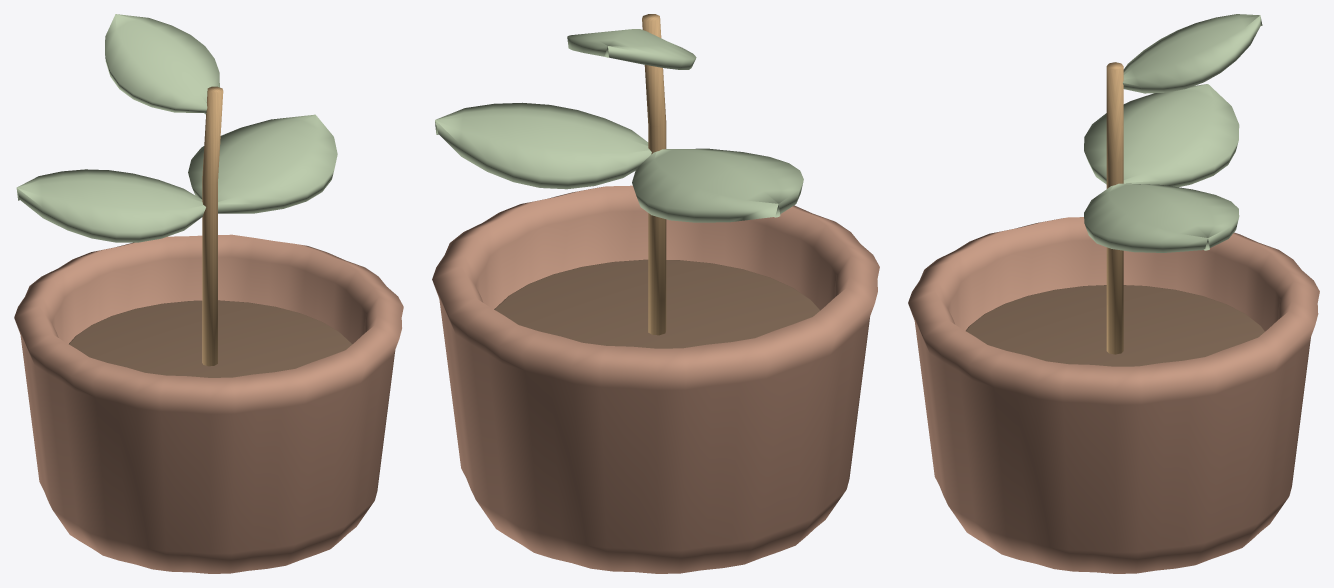
The model's file is gift-06.21fe1a33d052-Dt6cZzPb.glb.
3 renders of one model, left to right at view 1: azimuth 30°, elevation 25°; view 2: azimuth 150°, elevation 25°; view 3: azimuth 270°, elevation 25°, orthographic. The views are drawn at different scales.
Visible parts, largest first — view 1: PART_GIFT_06_ROOT_MAT_pinched_terracotta, PART_GIFT_06_ROOT_MAT_sage_paper, Matte_plant_base, Folded_tender_leaf, Fine_wood_stem; view 2: PART_GIFT_06_ROOT_MAT_pinched_terracotta, PART_GIFT_06_ROOT_MAT_sage_paper, Matte_plant_base, Fine_wood_stem, Folded_tender_leaf; view 3: PART_GIFT_06_ROOT_MAT_pinched_terracotta, PART_GIFT_06_ROOT_MAT_sage_paper, Matte_plant_base, Folded_tender_leaf, Fine_wood_stem.
Part boxes in pixels (<box>): PART_GIFT_06_ROOT_MAT_pinched_terracotta: <box>14,234,403,573</box>; PART_GIFT_06_ROOT_MAT_sage_paper: <box>16,114,337,242</box>; Matte_plant_base: <box>69,300,351,377</box>; Folded_tender_leaf: <box>105,14,219,114</box>; Fine_wood_stem: <box>202,86,223,366</box>; PART_GIFT_06_ROOT_MAT_pinched_terracotta: <box>432,185,879,573</box>; PART_GIFT_06_ROOT_MAT_sage_paper: <box>435,102,803,222</box>; Matte_plant_base: <box>494,259,820,348</box>; Fine_wood_stem: <box>642,14,666,335</box>; Folded_tender_leaf: <box>567,29,696,69</box>; PART_GIFT_06_ROOT_MAT_pinched_terracotta: <box>908,217,1319,573</box>; PART_GIFT_06_ROOT_MAT_sage_paper: <box>1084,84,1239,252</box>; Matte_plant_base: <box>966,285,1264,366</box>; Folded_tender_leaf: <box>1123,14,1262,93</box>; Fine_wood_stem: <box>1106,62,1123,354</box>.
Bounding box in the file's own units: 0.0622 × 0.0798 × 0.0623.
4 materials, 1 textured.
